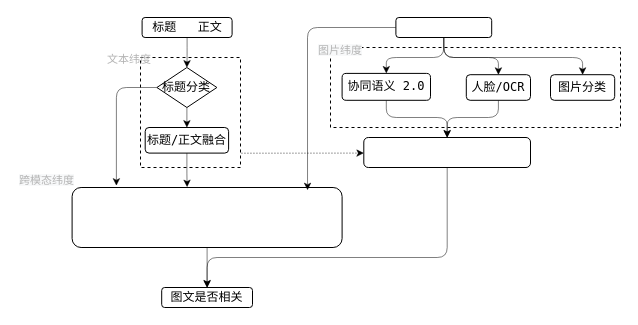
Some shapes in this 638 by 325 pixel diagram are drawn without their labels. Each missing label, with the box of its shape:
图文一致性模型: (71, 186, 342, 248)
图片: (395, 16, 492, 38)
文本关键词和图片标签相似度: (363, 136, 530, 168)
